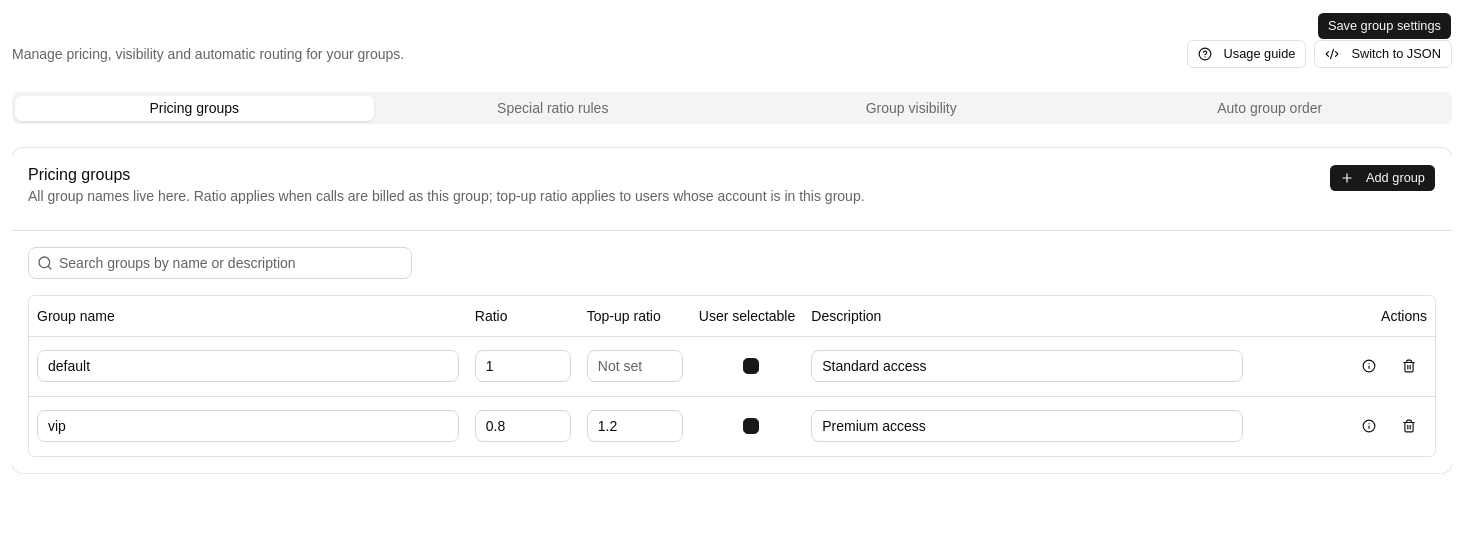
Scenario: group settings workspace › filters by description and clears search without discarding edits
Type "PREMIUM" into the field labelled "Search groups by name or description". click: (232, 263)
box: [53,247,411,279]
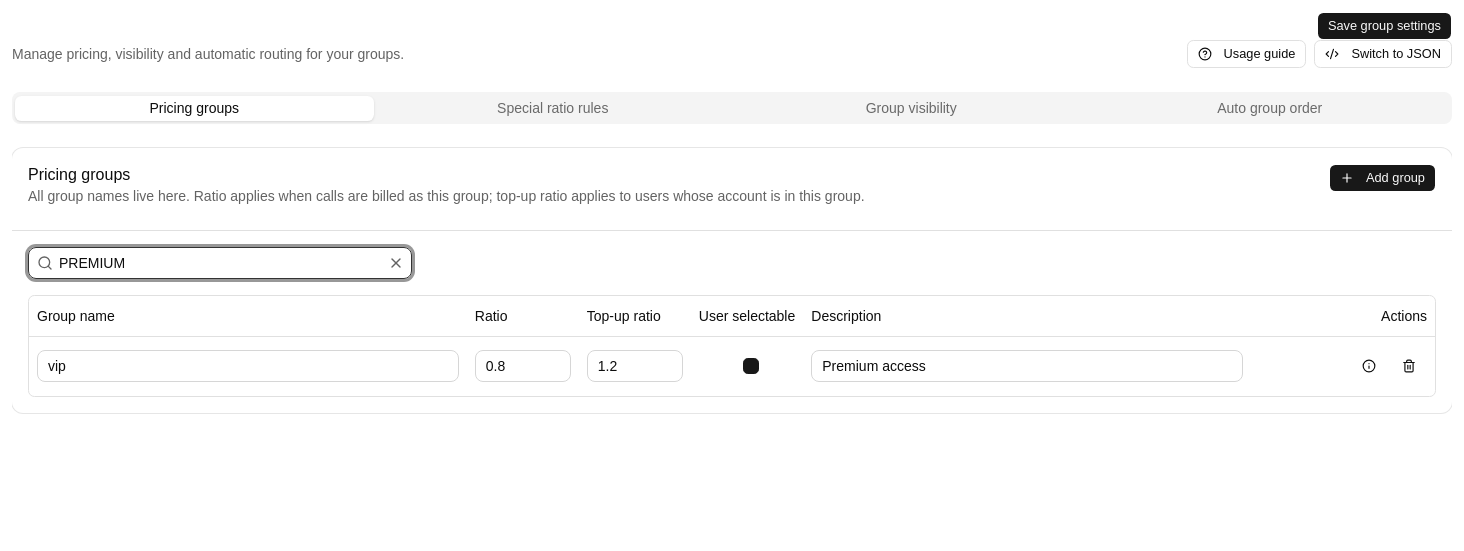
Expected: the number of fields named "Group name" is 1, [37,350,459,382]
Expected: the field named "Group name" holds "vip", [37,350,459,382]
Replace the text in the number field named "Ratio" with "0.6". click: (523, 366)
box: [475,350,571,382]
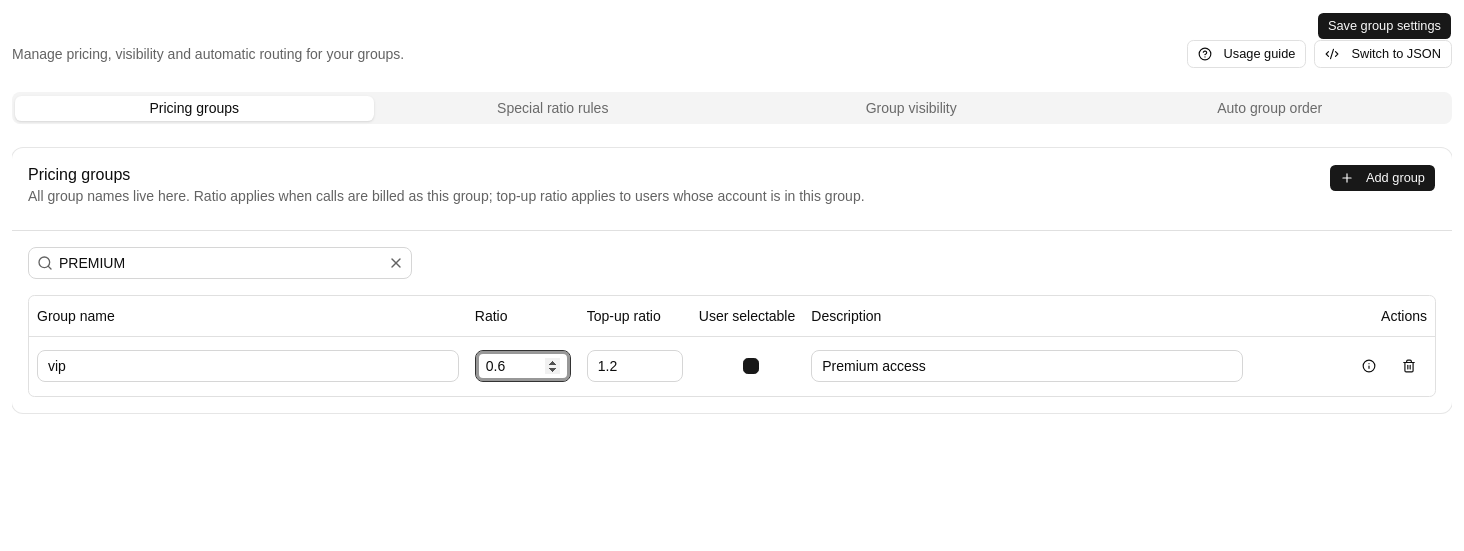
Click the button named "Clear search". click: (396, 263)
box: [384,251,408,275]
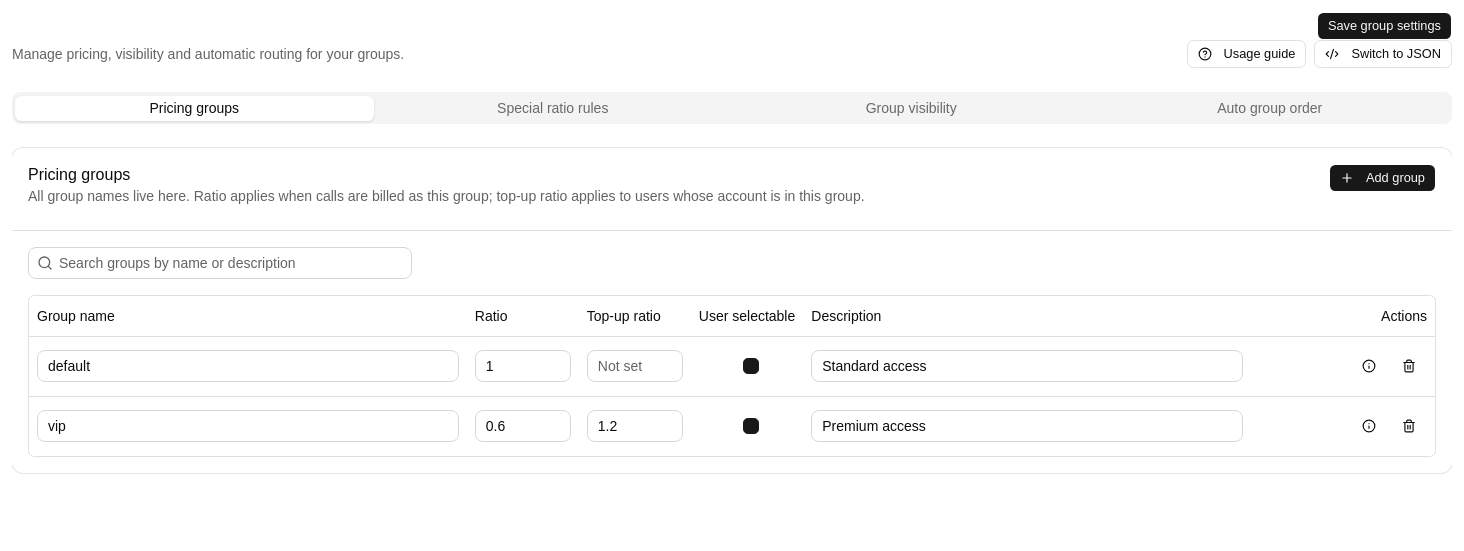
Expected: the number of fields named "Group name" is 2, [37,350,459,382]; [37,410,459,442]
Type "missing" into the field labelled "Search groups by name or description". click: (232, 263)
box: [53,247,411,279]
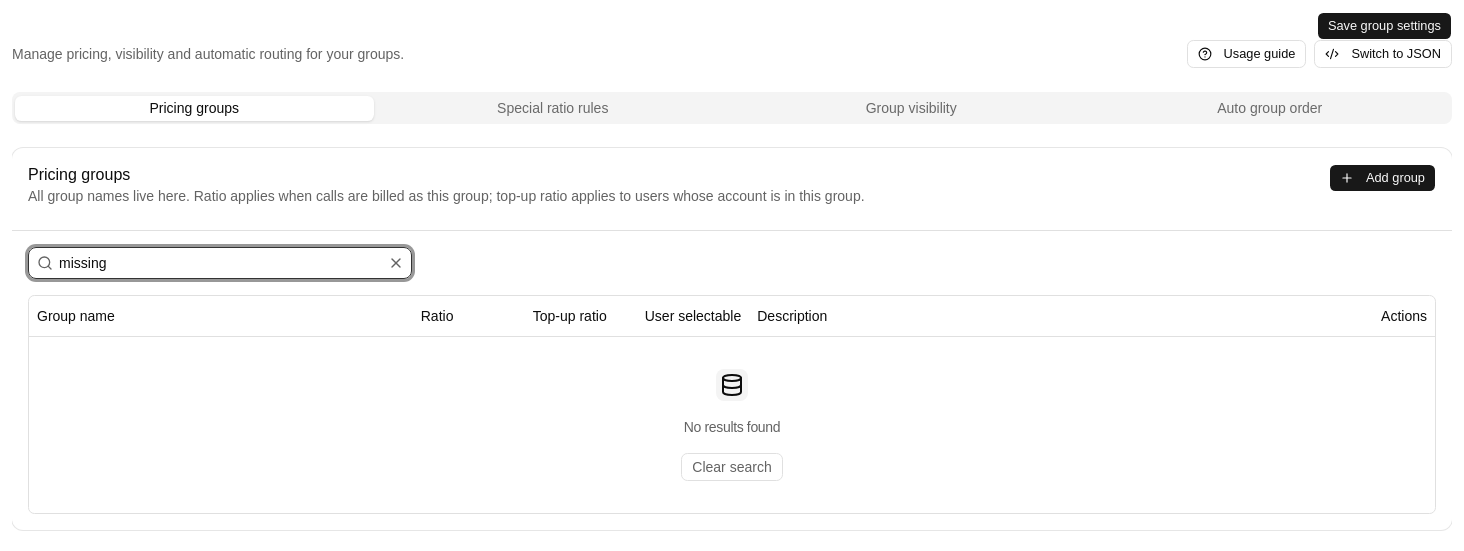
Expected: the text "No results found" is shown, [684,416,780,436]
Click the button "Add group". click: (1382, 178)
box: [1329,164,1436,192]
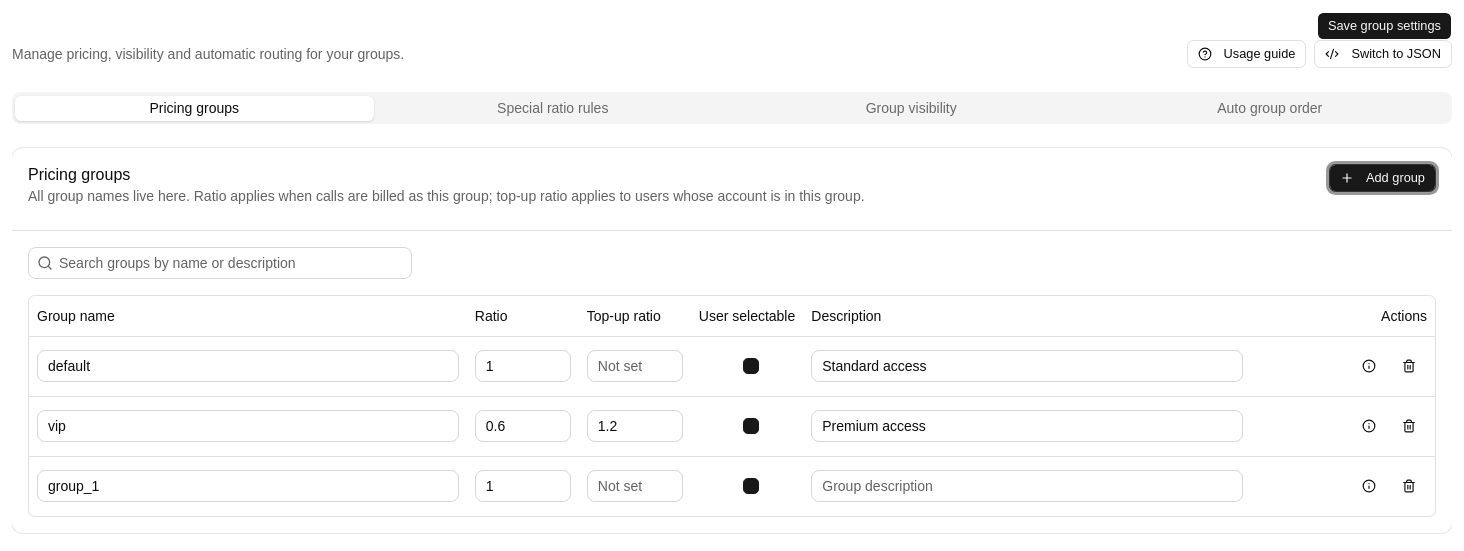
Expected: the field labelled "Search groups by name or description" is empty, [53,247,411,279]
Expected: the 3rd field showing "group_1" is shown, [37,470,459,502]
